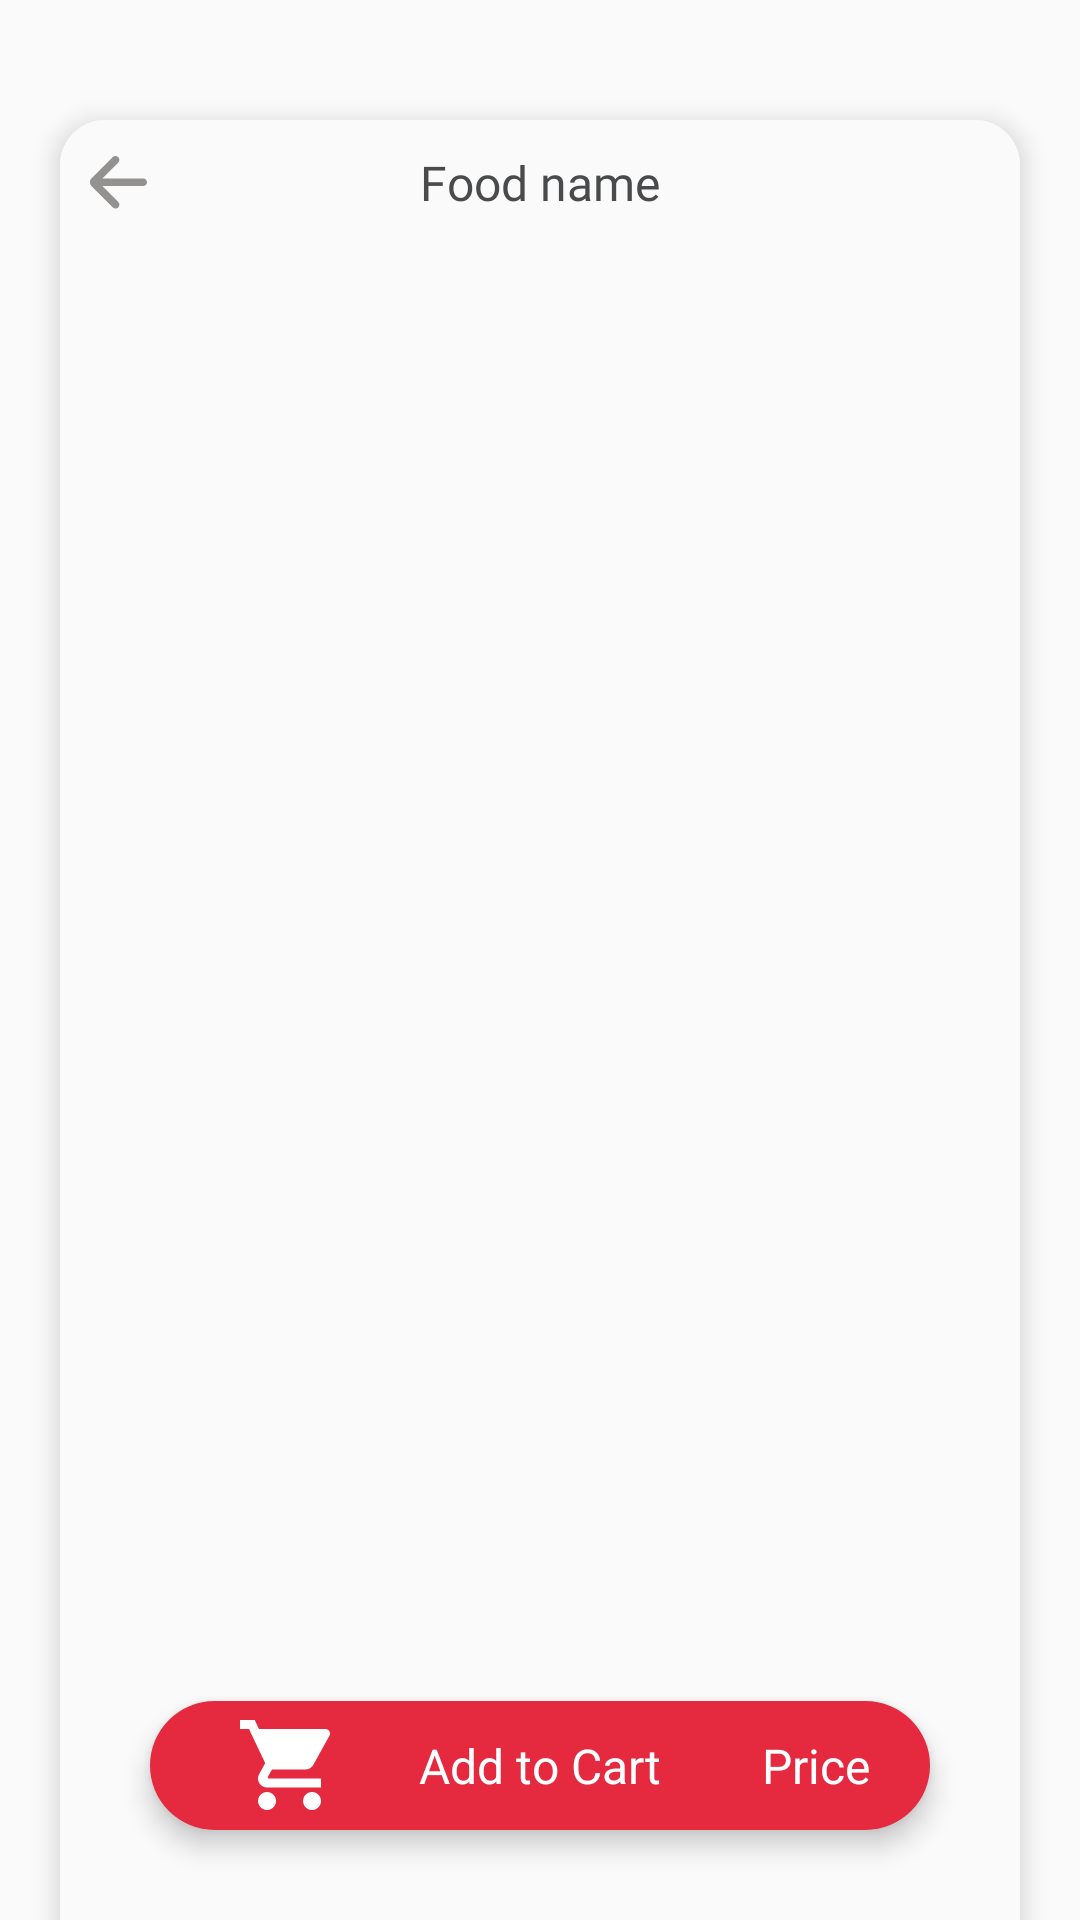

Icons on this 1080*1920 Android screen, each with the point to tap as (x,y):
back: (118,182)
